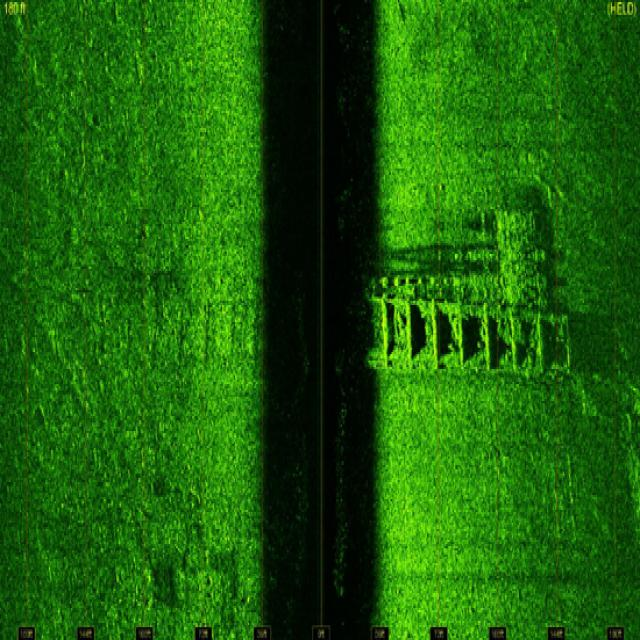ship: (365, 207, 576, 378)
